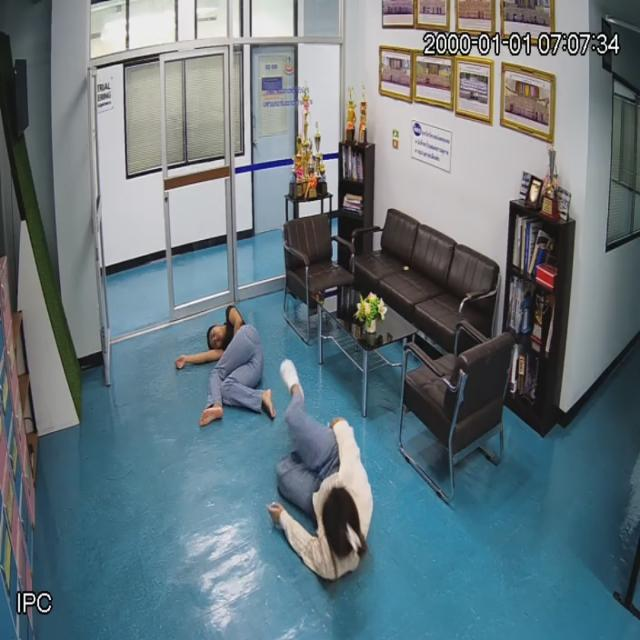fall: (267, 352, 379, 581), (199, 301, 270, 439)
